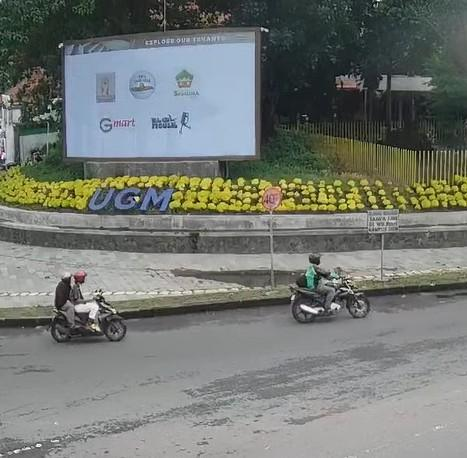Helmet: (73, 270, 86, 283), (309, 253, 320, 264), (62, 272, 71, 279)
